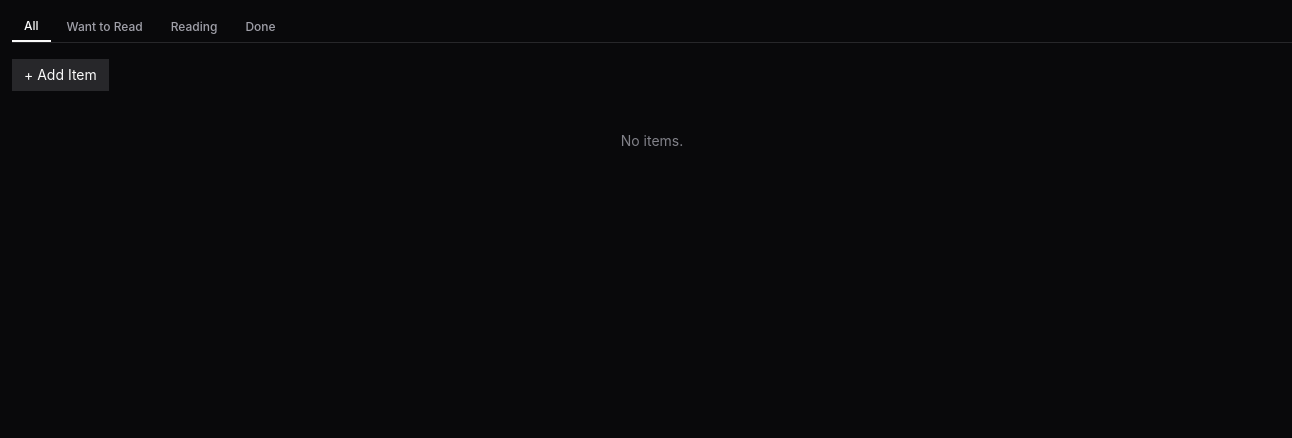
it: ReadingList › filters by status tab
The image size is (1292, 438).
Add an item first
Click the button "+ Add Item". click: {"x": 60, "y": 75}
box: [12, 59, 109, 91]
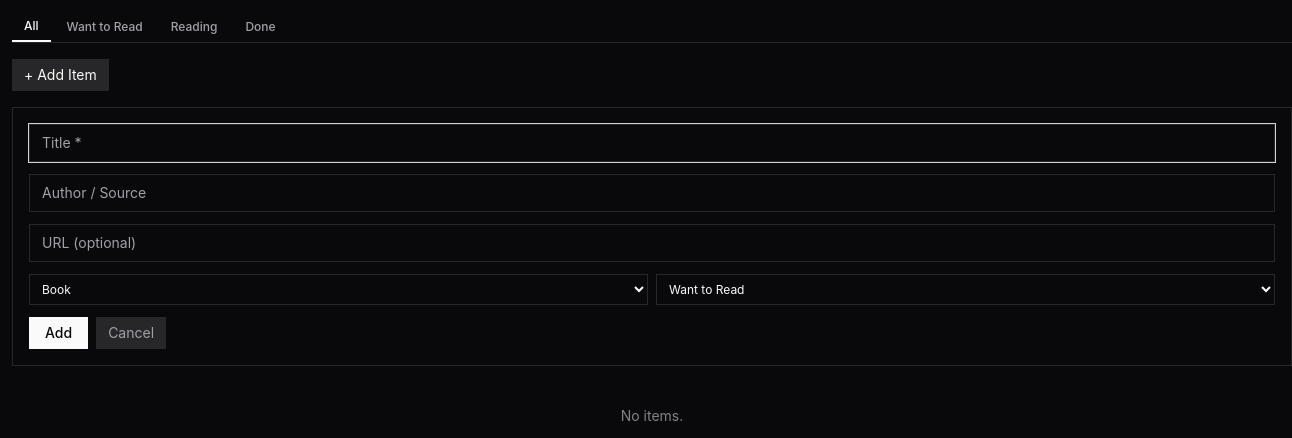
Type "Reading Book" into the field with placeholder "Title *". click: {"x": 652, "y": 143}
box: [29, 124, 1275, 162]
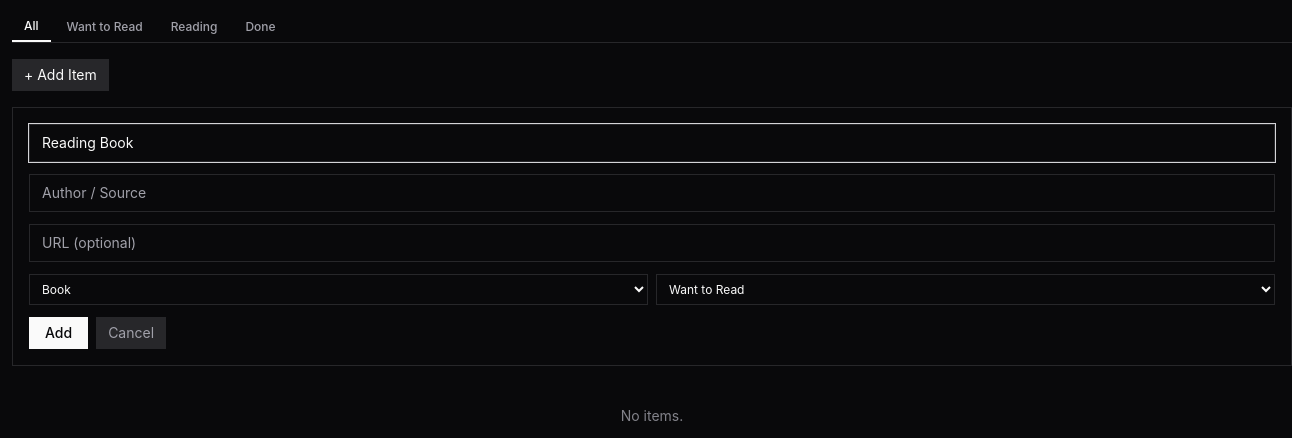
Change status to Reading
Select "Reading" in the 2nd dropdown. click: {"x": 966, "y": 290}
box: [656, 274, 1275, 305]
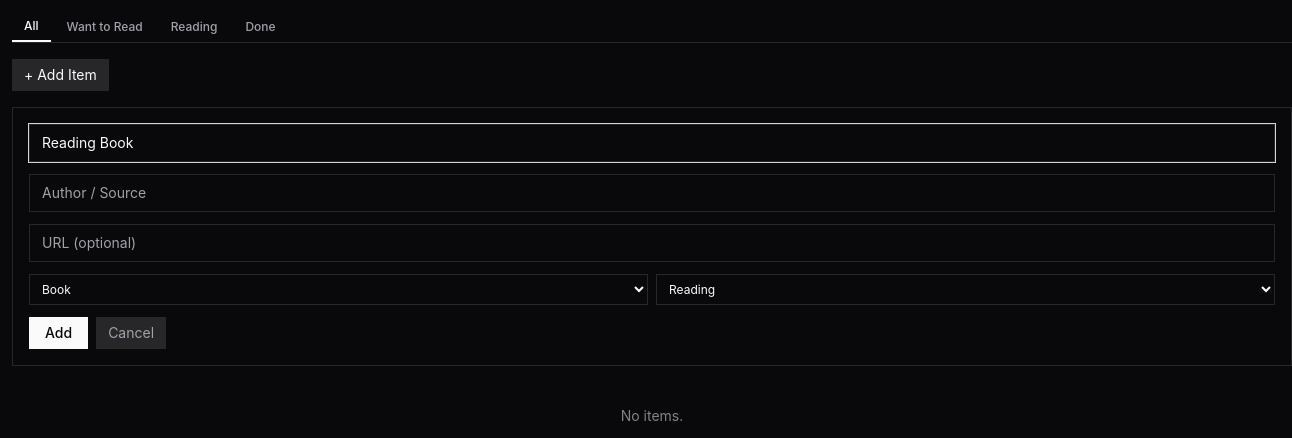
Click the button "Add". click: {"x": 59, "y": 333}
box: [29, 317, 88, 349]
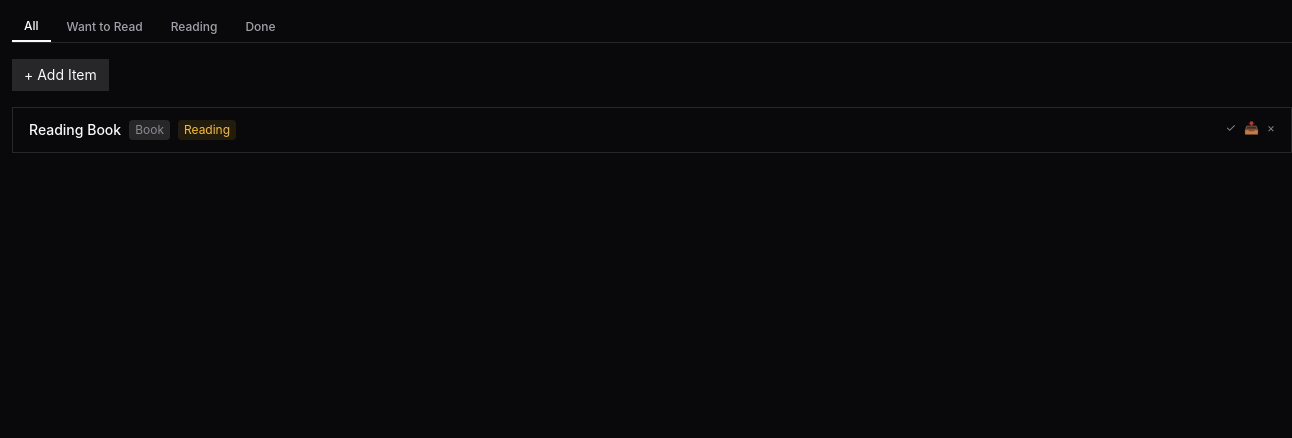
Now the text "Reading Book" is shown, box [29, 120, 121, 140]
Filter to "Reading"
Click the button with test id "reading-filter-reading". click: {"x": 194, "y": 27}
box: [159, 12, 229, 42]
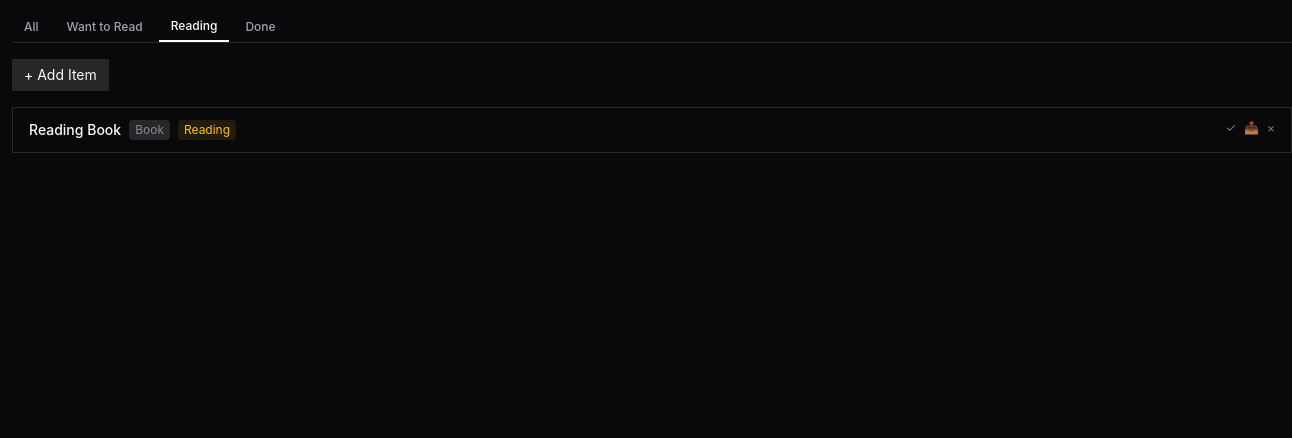
Now the text "Reading Book" is shown, box [29, 120, 121, 140]
Filter to "Done" - item shouldn't appear
Click the button with test id "reading-filter-done". click: {"x": 260, "y": 27}
box: [233, 12, 288, 42]
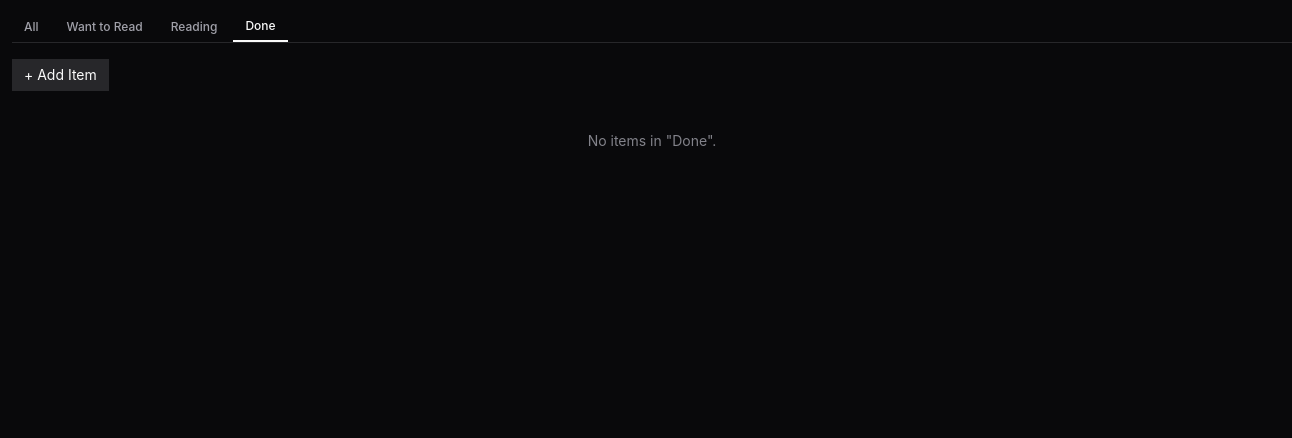
Now the text "Reading Book" is gone
